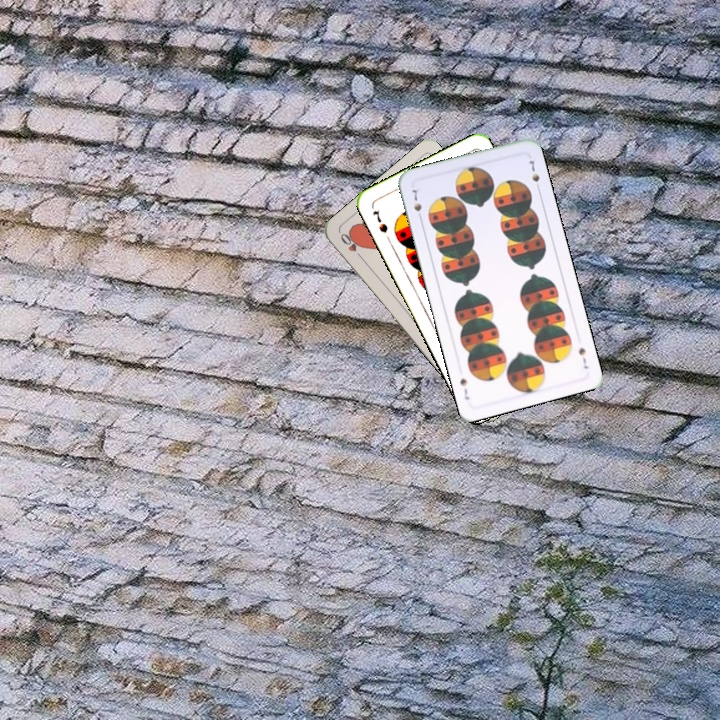HO: (336, 229, 366, 263)
S7: (368, 206, 390, 236), (408, 185, 425, 223), (574, 343, 591, 371)
